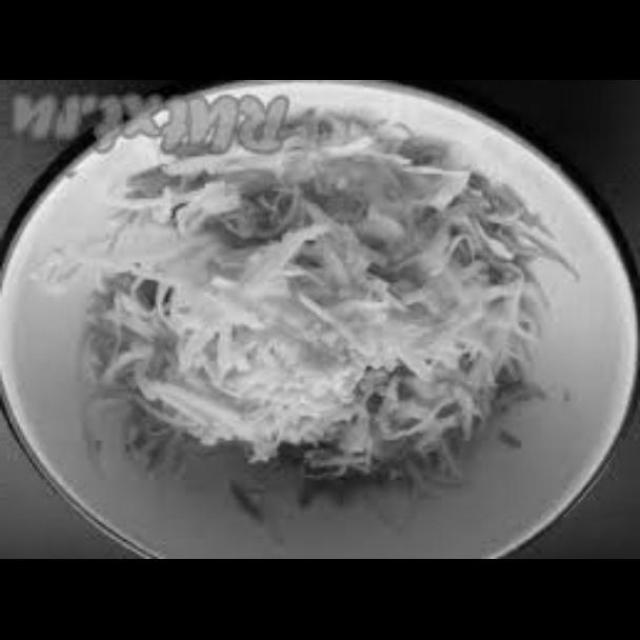ca rot: (393, 186, 481, 269), (482, 188, 556, 270), (329, 159, 410, 205), (123, 163, 212, 204), (87, 276, 121, 370), (482, 378, 541, 424)
cai bap: (142, 233, 380, 441), (374, 272, 534, 383)
